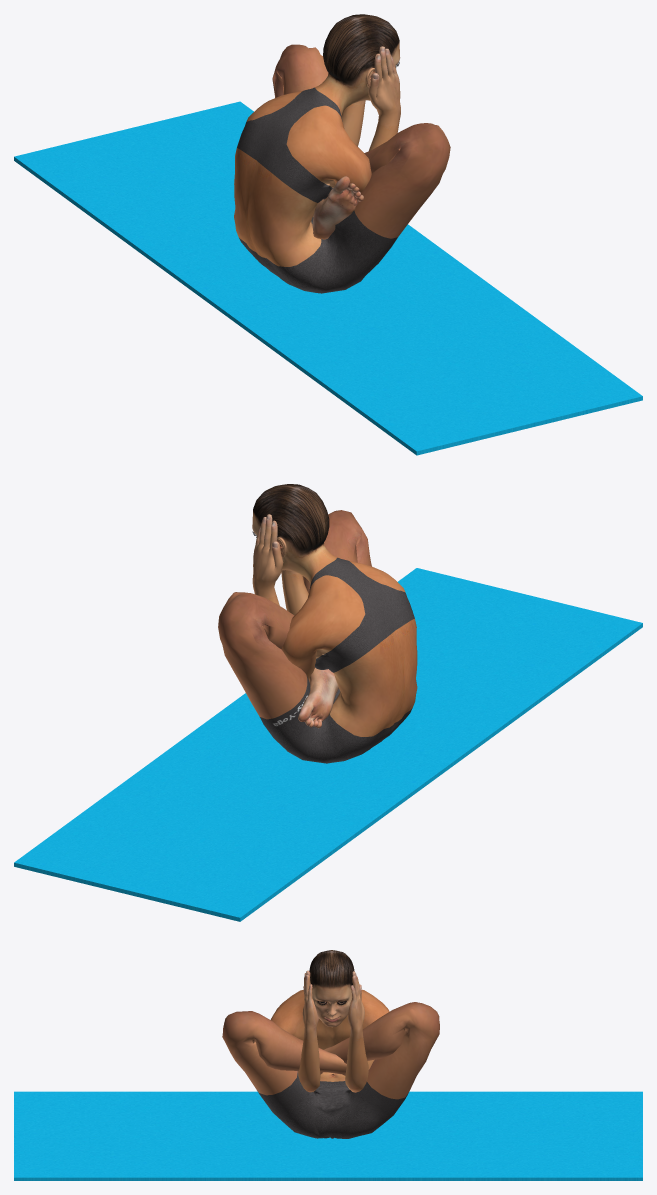
The model's file is garbha_pindasana.glb.
3 views of the same model, one above another, from view 1: azimuth 30°, elevation 25°; view 2: azimuth 150°, elevation 25°; view 3: azimuth 270°, elevation 25° (orthographic). The views are drawn at different scales.
Visible parts, largest first — view 1: Mat-one-piece_jpg-material, Lily_Texture01_06_2016_jpg-material; view 2: Mat-one-piece_jpg-material, Lily_Texture01_06_2016_jpg-material; view 3: Mat-one-piece_jpg-material, Lily_Texture01_06_2016_jpg-material.
Boxes of the visible parts, box(x1,y1,x2,y2) form: Mat-one-piece_jpg-material: box(14, 101, 642, 455); Lily_Texture01_06_2016_jpg-material: box(234, 14, 450, 293); Mat-one-piece_jpg-material: box(14, 568, 642, 921); Lily_Texture01_06_2016_jpg-material: box(218, 484, 417, 763); Mat-one-piece_jpg-material: box(14, 1091, 642, 1180); Lily_Texture01_06_2016_jpg-material: box(222, 950, 439, 1138).
Bounding box in the file's own units: 2 × 2.16 × 6.17.
3 materials, 2 textured.
